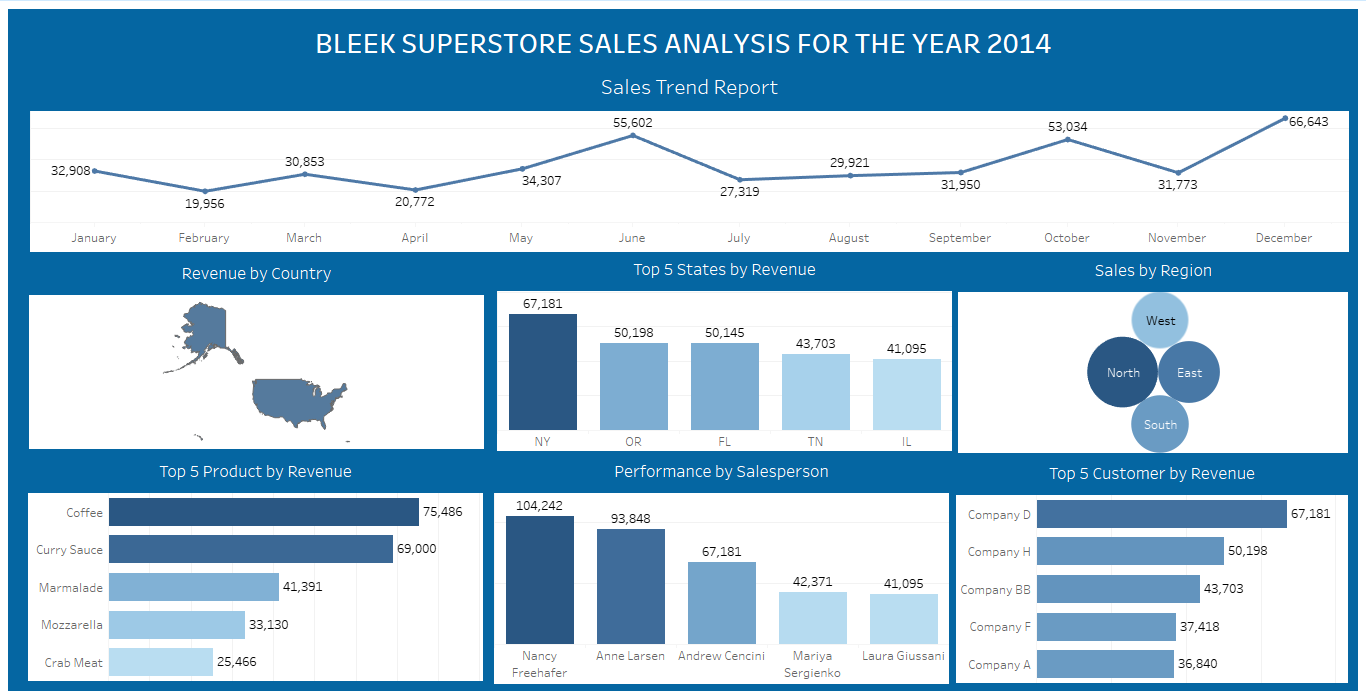

The dashboard page shown, as its layout file describes it:
{"tool":"tableau","page":{"name":"BLEEK SUPERSTORE DASHBOARD","canvas":[1000,1000],"units":"permille","ordinal":0},"visuals":[{"type":"text","box":[15.4,22,969.2,74.3]},{"type":"worksheet","title":"Sales Trend Report","mark":"Automatic","rows":["Revenue"],"cols":["Order Date"],"box":[22.2,96.3,965.8,263.5]},{"type":"worksheet","title":"Top 5 States by Revenue","mark":"Automatic","rows":["Revenue"],"cols":["Ship State"],"box":[364.2,361.5,333.3,283.8]},{"type":"worksheet","title":"Sales by Region","mark":"Circle","box":[701.1,363.2,285.9,285.5]},{"type":"worksheet","title":"Revenue by Country","mark":"Automatic","box":[21.4,366.6,333.3,275.3]},{"type":"worksheet","title":"Top 5 Product by Revenue","mark":"Automatic","rows":["Product Name"],"cols":["Revenue"],"box":[20.2,650.3,333.3,324.3]},{"type":"worksheet","title":"Performance by Salesperson","mark":"Automatic","rows":["Revenue"],"cols":["Salesperson"],"box":[361.8,650.3,333.3,327.7]},{"type":"worksheet","title":"Top 5 Customer by Revenue","mark":"Automatic","rows":["Customer Name"],"cols":["Revenue"],"box":[699.9,653.7,287,324.3]}]}

Visuals, with their boxes on the dashboard's canvas, which has no fixed pixel size, in thousandths of its width and height (x1, y1, x2, y2). These are canvas units, not pixel positions in the 1366x697 screenshot, which may show the page scaled, cropped or inside an application window:
text: region(15, 22, 985, 96)
"Sales Trend Report" worksheet: region(22, 96, 988, 360)
"Top 5 States by Revenue" worksheet: region(364, 362, 698, 645)
"Sales by Region" worksheet (Circle marks): region(701, 363, 987, 649)
"Revenue by Country" worksheet: region(21, 367, 355, 642)
"Top 5 Product by Revenue" worksheet: region(20, 650, 354, 975)
"Performance by Salesperson" worksheet: region(362, 650, 695, 978)
"Top 5 Customer by Revenue" worksheet: region(700, 654, 987, 978)
